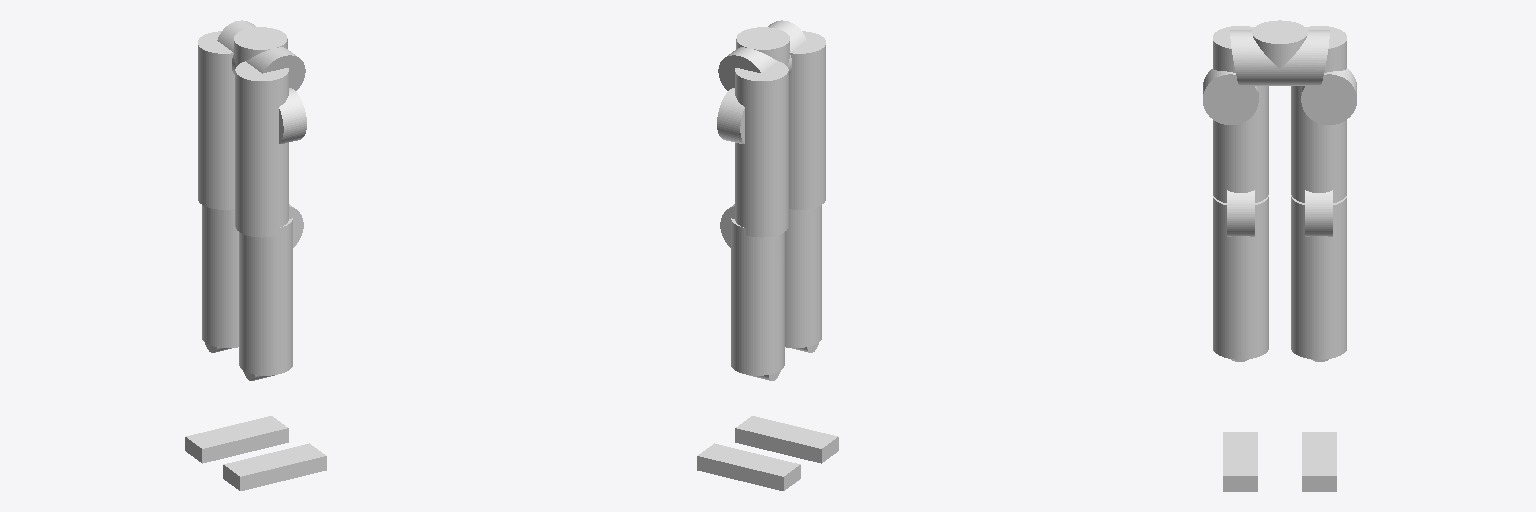
robot.urdf — lite_biped_debug:
<?xml version='1.0' encoding='utf-8'?>
<robot name="lite_biped_debug">
  <!-- GENERATED by robot_assets from Onshape CAD. Do not edit by hand. Regenerate: robot-assets-generate lite_biped_debug -->
  <link name="pelvis">
    <inertial>
      <origin xyz="0.0137049 6.97587e-07 0.0692011" rpy="0 0 0" />
      <mass value="2.1" />
      <inertia ixx="0.00987937" ixy="3.9803e-08" ixz="-0.000115563" iyy="0.00823366" iyz="-5.1965e-08" izz="0.00638151" />
    </inertial>
    <!-- Part pelvis_parts -->
    <visual>
      <origin xyz="0.0137049 6.97587e-07 0.0692011" rpy="0 -0 0" />
      <geometry>
        <mesh filename="../meshes/visual/pelvis_visual.stl" />
      </geometry>
      <material name="pelvis_parts_material">
        <color rgba="0.933333 0.933333 0.933333 1" />
      </material>
    </visual>
  </link>
  <!-- Frame imu (dummy link + fixed joint) -->
  <link name="imu">
    <origin xyz="0 0 0" rpy="0 -0 0" />
    <inertial>
      <origin xyz="0 0 0" rpy="0 0 0" />
      <mass value="1e-9" />
      <inertia ixx="0" ixy="0" ixz="0" iyy="0" iyz="0" izz="0" />
    </inertial>
  </link>
  <joint name="imu_frame" type="fixed">
    <origin xyz="0 0 0.08" rpy="0 -0 0" />
    <parent link="pelvis" />
    <child link="imu" />
    <axis xyz="0 0 0" />
  </joint>
  <!-- Link left_hip_pitch -->
  <link name="left_hip_pitch">
    <inertial>
      <origin xyz="-0.0114774 0.00418673 0.0187959" rpy="0 0 0" />
      <mass value="0.18" />
      <inertia ixx="0.000189549" ixy="1.56103e-05" ixz="-3.45388e-05" iyy="0.000226363" iyz="1.30141e-05" izz="0.000286537" />
    </inertial>
    <!-- Part left_hip_pitch_parts -->
    <visual>
      <origin xyz="-0.0114774 0.00418673 0.0187959" rpy="1.74533 0 -0" />
      <geometry>
        <mesh filename="../meshes/visual/left_hip_pitch_visual.stl" />
      </geometry>
      <material name="left_hip_pitch_parts_material">
        <color rgba="0.933333 0.933333 0.933333 1" />
      </material>
    </visual>
  </link>
  <!-- Link left_hip_roll -->
  <link name="left_hip_roll">
    <inertial>
      <origin xyz="-4.8952e-08 0.0525082 -0.0652484" rpy="0 0 0" />
      <mass value="0.93" />
      <inertia ixx="0.00263146" ixy="-5.134e-09" ixz="3.451e-09" iyy="0.00142387" iyz="-0.000651416" izz="0.00255491" />
    </inertial>
    <!-- Part left_hip_roll_parts -->
    <collision>
      <origin xyz="0 0.181098 -0.0871979" rpy="1.22173 -0 0" />
      <geometry>
        <cylinder length="0.15" radius="0.05" />
      </geometry>
    </collision>
    <visual>
      <origin xyz="-4.8952e-08 0.0525082 -0.0652484" rpy="0 -1.22173 1.5708" />
      <geometry>
        <mesh filename="../meshes/visual/left_hip_roll_visual.stl" />
      </geometry>
      <material name="left_hip_roll_parts_material">
        <color rgba="0.933333 0.933333 0.933333 1" />
      </material>
    </visual>
  </link>
  <!-- Link left_hip_yaw -->
  <link name="left_hip_yaw">
    <inertial>
      <origin xyz="0.00130442 -2.2783e-05 -0.237299" rpy="0 0 0" />
      <mass value="1.54" />
      <inertia ixx="0.00856423" ixy="8.05553e-07" ixz="-0.000337563" iyy="0.00874707" iyz="1.62929e-07" izz="0.00192866" />
    </inertial>
    <!-- Part left_hip_yaw_parts -->
    <visual>
      <origin xyz="0.00130442 -2.2783e-05 -0.237299" rpy="-0 0 -0" />
      <geometry>
        <mesh filename="../meshes/visual/left_hip_yaw_visual.stl" />
      </geometry>
      <material name="left_hip_yaw_parts_material">
        <color rgba="0.933333 0.933333 0.933333 1" />
      </material>
    </visual>
  </link>
  <!-- Link left_knee_pitch -->
  <link name="left_knee_pitch">
    <inertial>
      <origin xyz="-0.00486713 0.0372163 -0.000224083" rpy="0 0 0" />
      <mass value="0.23" />
      <inertia ixx="0.00048246" ixy="3.51526e-05" ixz="-1.20098e-07" iyy="0.000330466" iyz="5.6617e-07" izz="0.00037756" />
    </inertial>
    <!-- Part left_knee_pitch_parts -->
    <collision>
      <origin xyz="-0.015 0.19 0" rpy="1.5708 1.5708 0" />
      <geometry>
        <cylinder length="0.12" radius="0.045" />
      </geometry>
    </collision>
    <visual>
      <origin xyz="-0.00486713 0.0372163 -0.000224083" rpy="1.5708 0 0" />
      <geometry>
        <mesh filename="../meshes/visual/left_knee_pitch_visual.stl" />
      </geometry>
      <material name="left_knee_pitch_parts_material">
        <color rgba="0.933333 0.933333 0.933333 1" />
      </material>
    </visual>
  </link>
  <!-- Link left_ankle_yaw -->
  <link name="left_ankle_yaw">
    <inertial>
      <origin xyz="-0.00304992 0.00150525 -0.18535" rpy="0 0 0" />
      <mass value="1.03" />
      <inertia ixx="0.00548966" ixy="2.18778e-06" ixz="0.000114943" iyy="0.00552969" iyz="-1.87643e-05" izz="0.000829513" />
    </inertial>
    <!-- Part left_ankle_yaw_parts -->
    <visual>
      <origin xyz="-0.00304992 0.00150525 -0.18535" rpy="-0 0 -0" />
      <geometry>
        <mesh filename="../meshes/visual/left_ankle_yaw_visual.stl" />
      </geometry>
      <material name="left_ankle_yaw_parts_material">
        <color rgba="0.933333 0.933333 0.933333 1" />
      </material>
    </visual>
  </link>
  <!-- Link left_ankle_pitch -->
  <link name="left_ankle_pitch">
    <inertial>
      <origin xyz="-0.00384209 0.0297371 3.1356e-08" rpy="0 0 0" />
      <mass value="0.34" />
      <inertia ixx="0.000180143" ixy="-3.10163e-05" ixz="-7.8e-11" iyy="0.00014325" iyz="2.66e-10" izz="0.000245142" />
    </inertial>
    <!-- Part left_ankle_pitch_parts -->
    <visual>
      <origin xyz="-0.00384209 0.0297371 3.1356e-08" rpy="1.5708 -0 -0" />
      <geometry>
        <mesh filename="../meshes/visual/left_ankle_pitch_visual.stl" />
      </geometry>
      <material name="left_ankle_pitch_parts_material">
        <color rgba="0.933333 0.933333 0.933333 1" />
      </material>
    </visual>
  </link>
  <!-- Link left_foot -->
  <link name="left_foot">
    <inertial>
      <origin xyz="-0.000591034 0.0225869 0.01872" rpy="0 0 0" />
      <mass value="0.326223" />
      <inertia ixx="0.000536048" ixy="-3.34731e-06" ixz="5.216e-06" iyy="0.000602621" iyz="1.20169e-05" izz="0.000181126" />
    </inertial>
    <!-- Part left_foot_parts -->
    <collision>
      <origin xyz="-0 0.03 0.015" rpy="1.5708 0 0" />
      <geometry>
        <box size="0.07 0.13 0.02" />
      </geometry>
    </collision>
    <visual>
      <origin xyz="-0.000591034 0.0225869 0.01872" rpy="1.5708 -1.5708 0" />
      <geometry>
        <mesh filename="../meshes/visual/left_foot_visual.stl" />
      </geometry>
      <material name="left_foot_parts_material">
        <color rgba="0.933333 0.933333 0.933333 1" />
      </material>
    </visual>
  </link>
  <!-- Joint from left_ankle_pitch to left_foot -->
  <joint name="left_ankle_roll" type="revolute">
    <origin xyz="0 0.04 -0" rpy="0 1.5708 0" />
    <parent link="left_ankle_pitch" />
    <child link="left_foot" />
    <axis xyz="0 0 1" />
    <limit effort="5.5" velocity="100" lower="-0.349066" upper="0.349066" />
    <joint_properties friction="0.1" />
  </joint>
  <!-- Joint from left_ankle_yaw to left_ankle_pitch -->
  <joint name="left_ankle_pitch" type="revolute">
    <origin xyz="0.01 -0 -0.34" rpy="-1.5708 0 -0" />
    <parent link="left_ankle_yaw" />
    <child link="left_ankle_pitch" />
    <axis xyz="0 0 1" />
    <limit effort="14.0" velocity="100" lower="-0.523599" upper="0.872665" />
    <joint_properties friction="0.1" />
  </joint>
  <!-- Joint from left_knee_pitch to left_ankle_yaw -->
  <joint name="left_ankle_yaw" type="revolute">
    <origin xyz="-0.015 0 0" rpy="1.5708 0 -0" />
    <parent link="left_knee_pitch" />
    <child link="left_ankle_yaw" />
    <axis xyz="0 0 1" />
    <limit effort="14.0" velocity="100" lower="-1.5708" upper="1.5708" />
    <joint_properties friction="0.1" />
  </joint>
  <!-- Joint from left_hip_yaw to left_knee_pitch -->
  <joint name="left_knee_pitch" type="revolute">
    <origin xyz="-0.01 0 -0.33" rpy="-1.5708 0 0" />
    <parent link="left_hip_yaw" />
    <child link="left_knee_pitch" />
    <axis xyz="0 0 1" />
    <limit effort="36.0" velocity="100" lower="0" upper="2.35619" />
    <joint_properties friction="0.1" />
  </joint>
  <!-- Joint from left_hip_roll to left_hip_yaw -->
  <joint name="left_hip_yaw" type="revolute">
    <origin xyz="0 -0.0068404 -0.0187939" rpy="0 -1.22173 1.5708" />
    <parent link="left_hip_roll" />
    <child link="left_hip_yaw" />
    <axis xyz="0 0 1" />
    <limit effort="17.0" velocity="100" lower="-1.5708" upper="1.5708" />
    <joint_properties friction="0.1" />
  </joint>
  <!-- Joint from left_hip_pitch to left_hip_roll -->
  <joint name="left_hip_roll" type="revolute">
    <origin xyz="-0 0 -0" rpy="1.91986 1.39626 1.5708" />
    <parent link="left_hip_pitch" />
    <child link="left_hip_roll" />
    <axis xyz="0 0 1" />
    <limit effort="36.0" velocity="100" lower="-0.349066" upper="1.5708" />
    <joint_properties friction="0.1" />
  </joint>
  <!-- Joint from pelvis to left_hip_pitch -->
  <joint name="left_hip_pitch" type="revolute">
    <origin xyz="0.02 0.07 0" rpy="-1.74533 0 0" />
    <parent link="pelvis" />
    <child link="left_hip_pitch" />
    <axis xyz="0 0 1" />
    <limit effort="36.0" velocity="100" lower="-2.35619" upper="0.785398" />
    <joint_properties friction="0.1" />
  </joint>
  <!-- Link right_hip_pitch -->
  <link name="right_hip_pitch">
    <inertial>
      <origin xyz="-0.0114771 0.00418737 -0.0187964" rpy="0 0 0" />
      <mass value="0.18" />
      <inertia ixx="0.000189546" ixy="1.56176e-05" ixz="3.45408e-05" iyy="0.00022637" iyz="-1.30122e-05" izz="0.000286535" />
    </inertial>
    <!-- Part right_hip_pitch_parts -->
    <visual>
      <origin xyz="-0.0114771 0.00418737 -0.0187964" rpy="1.39626 0 -0" />
      <geometry>
        <mesh filename="../meshes/visual/right_hip_pitch_visual.stl" />
      </geometry>
      <material name="right_hip_pitch_parts_material">
        <color rgba="0.933333 0.933333 0.933333 1" />
      </material>
    </visual>
  </link>
  <!-- Link right_hip_roll -->
  <link name="right_hip_roll">
    <inertial>
      <origin xyz="2.6715e-08 0.0525085 -0.0652483" rpy="0 0 0" />
      <mass value="0.93" />
      <inertia ixx="0.00263147" ixy="2.71e-10" ixz="6.079e-09" iyy="0.00142387" iyz="-0.000651423" izz="0.00255493" />
    </inertial>
    <!-- Part right_hip_roll_parts -->
    <collision>
      <origin xyz="1.40064e-07 0.181098 -0.0871974" rpy="1.22173 0 -0" />
      <geometry>
        <cylinder length="0.15" radius="0.05" />
      </geometry>
    </collision>
    <visual>
      <origin xyz="2.6715e-08 0.0525085 -0.0652483" rpy="0 -1.22173 1.5708" />
      <geometry>
        <mesh filename="../meshes/visual/right_hip_roll_visual.stl" />
      </geometry>
      <material name="right_hip_roll_parts_material">
        <color rgba="0.933333 0.933333 0.933333 1" />
      </material>
    </visual>
  </link>
  <!-- Link right_hip_yaw -->
  <link name="right_hip_yaw">
    <inertial>
      <origin xyz="0.00130421 2.35733e-05 -0.237299" rpy="0 0 0" />
      <mass value="1.54" />
      <inertia ixx="0.00856421" ixy="-7.98006e-07" ixz="-0.000337552" iyy="0.00874705" iyz="-2.23692e-07" izz="0.00192867" />
    </inertial>
    <!-- Part right_hip_yaw_parts -->
    <visual>
      <origin xyz="0.00130421 2.35733e-05 -0.237299" rpy="0 0 -0" />
      <geometry>
        <mesh filename="../meshes/visual/right_hip_yaw_visual.stl" />
      </geometry>
      <material name="right_hip_yaw_parts_material">
        <color rgba="0.933333 0.933333 0.933333 1" />
      </material>
    </visual>
  </link>
  <!-- Link right_knee_pitch -->
  <link name="right_knee_pitch">
    <inertial>
      <origin xyz="-0.0048642 0.0372186 0.000224747" rpy="0 0 0" />
      <mass value="0.23" />
      <inertia ixx="0.000482479" ixy="3.5171e-05" ixz="1.13103e-07" iyy="0.000330463" iyz="-5.54061e-07" izz="0.000377561" />
    </inertial>
    <!-- Part right_knee_pitch_parts -->
    <collision>
      <origin xyz="-0.015 0.19 0" rpy="1.5708 1.5708 0" />
      <geometry>
        <cylinder length="0.12" radius="0.045" />
      </geometry>
    </collision>
    <visual>
      <origin xyz="-0.0048642 0.0372186 0.000224747" rpy="1.5708 0 0" />
      <geometry>
        <mesh filename="../meshes/visual/right_knee_pitch_visual.stl" />
      </geometry>
      <material name="right_knee_pitch_parts_material">
        <color rgba="0.933333 0.933333 0.933333 1" />
      </material>
    </visual>
  </link>
  <!-- Link right_ankle_yaw -->
  <link name="right_ankle_yaw">
    <inertial>
      <origin xyz="-0.00304908 -0.0015054 -0.185348" rpy="0 0 0" />
      <mass value="1.03" />
      <inertia ixx="0.00548969" ixy="-2.19478e-06" ixz="0.000114953" iyy="0.00552968" iyz="1.87697e-05" izz="0.00082951" />
    </inertial>
    <!-- Part right_ankle_yaw_parts -->
    <visual>
      <origin xyz="-0.00304908 -0.0015054 -0.185348" rpy="0 0 -0" />
      <geometry>
        <mesh filename="../meshes/visual/right_ankle_yaw_visual.stl" />
      </geometry>
      <material name="right_ankle_yaw_parts_material">
        <color rgba="0.933333 0.933333 0.933333 1" />
      </material>
    </visual>
  </link>
  <!-- Link right_ankle_pitch -->
  <link name="right_ankle_pitch">
    <inertial>
      <origin xyz="-0.00384209 0.0297371 3.1396e-08" rpy="0 0 0" />
      <mass value="0.34" />
      <inertia ixx="0.000180143" ixy="-3.10163e-05" ixz="-7.8e-11" iyy="0.00014325" iyz="2.66e-10" izz="0.000245142" />
    </inertial>
    <!-- Part right_ankle_pitch_parts -->
    <visual>
      <origin xyz="-0.00384209 0.0297371 3.1396e-08" rpy="1.5708 0 0" />
      <geometry>
        <mesh filename="../meshes/visual/right_ankle_pitch_visual.stl" />
      </geometry>
      <material name="right_ankle_pitch_parts_material">
        <color rgba="0.933333 0.933333 0.933333 1" />
      </material>
    </visual>
  </link>
  <!-- Link right_foot -->
  <link name="right_foot">
    <inertial>
      <origin xyz="0.000591036 0.0225869 0.01872" rpy="0 0 0" />
      <mass value="0.326223" />
      <inertia ixx="0.000536048" ixy="3.34731e-06" ixz="-5.21602e-06" iyy="0.000602621" iyz="1.20169e-05" izz="0.000181126" />
    </inertial>
    <!-- Part right_foot_parts -->
    <collision>
      <origin xyz="0 0.03 0.015" rpy="1.5708 0 -0" />
      <geometry>
        <box size="0.07 0.13 0.02" />
      </geometry>
    </collision>
    <visual>
      <origin xyz="0.000591036 0.0225869 0.01872" rpy="1.5708 -1.5708 0" />
      <geometry>
        <mesh filename="../meshes/visual/right_foot_visual.stl" />
      </geometry>
      <material name="right_foot_parts_material">
        <color rgba="0.933333 0.933333 0.933333 1" />
      </material>
    </visual>
  </link>
  <!-- Joint from right_ankle_pitch to right_foot -->
  <joint name="right_ankle_roll" type="revolute">
    <origin xyz="0 0.04 0" rpy="0 1.5708 0" />
    <parent link="right_ankle_pitch" />
    <child link="right_foot" />
    <axis xyz="0 0 1" />
    <limit effort="5.5" velocity="100" lower="-0.349066" upper="0.349066" />
    <joint_properties friction="0.1" />
  </joint>
  <!-- Joint from right_ankle_yaw to right_ankle_pitch -->
  <joint name="right_ankle_pitch" type="revolute">
    <origin xyz="0.01 0 -0.34" rpy="-1.5708 -0 -0" />
    <parent link="right_ankle_yaw" />
    <child link="right_ankle_pitch" />
    <axis xyz="0 0 1" />
    <limit effort="14.0" velocity="100" lower="-0.523599" upper="0.872665" />
    <joint_properties friction="0.1" />
  </joint>
  <!-- Joint from right_knee_pitch to right_ankle_yaw -->
  <joint name="right_ankle_yaw" type="revolute">
    <origin xyz="-0.015 0 0" rpy="1.5708 -0 -0" />
    <parent link="right_knee_pitch" />
    <child link="right_ankle_yaw" />
    <axis xyz="0 0 1" />
    <limit effort="14.0" velocity="100" lower="-1.5708" upper="1.5708" />
    <joint_properties friction="0.1" />
  </joint>
  <!-- Joint from right_hip_yaw to right_knee_pitch -->
  <joint name="right_knee_pitch" type="revolute">
    <origin xyz="-0.01 -0 -0.33" rpy="-1.5708 0 0" />
    <parent link="right_hip_yaw" />
    <child link="right_knee_pitch" />
    <axis xyz="0 0 1" />
    <limit effort="36.0" velocity="100" lower="0" upper="2.35619" />
    <joint_properties friction="0.1" />
  </joint>
  <!-- Joint from right_hip_roll to right_hip_yaw -->
  <joint name="right_hip_yaw" type="revolute">
    <origin xyz="-0 -0.0068404 -0.0187939" rpy="-0 -1.22173 1.5708" />
    <parent link="right_hip_roll" />
    <child link="right_hip_yaw" />
    <axis xyz="0 0 1" />
    <limit effort="17.0" velocity="100" lower="-1.5708" upper="1.5708" />
    <joint_properties friction="0.1" />
  </joint>
  <!-- Joint from right_hip_pitch to right_hip_roll -->
  <joint name="right_hip_roll" type="revolute">
    <origin xyz="0 -0 -0" rpy="-1.22173 1.39626 -1.5708" />
    <parent link="right_hip_pitch" />
    <child link="right_hip_roll" />
    <axis xyz="0 0 1" />
    <limit effort="36.0" velocity="100" lower="-1.5708" upper="0.349066" />
    <joint_properties friction="0.1" />
  </joint>
  <!-- Joint from pelvis to right_hip_pitch -->
  <joint name="right_hip_pitch" type="revolute">
    <origin xyz="0.02 -0.07 -0" rpy="-1.39626 -0 0" />
    <parent link="pelvis" />
    <child link="right_hip_pitch" />
    <axis xyz="0 0 1" />
    <limit effort="36.0" velocity="100" lower="-2.35619" upper="0.785398" />
    <joint_properties friction="0.1" />
  </joint>
</robot>

--- Render facts (derived) ---
3 views of the same robot in one strip: view 1: azimuth 30°, elevation 25°; view 2: azimuth 150°, elevation 25°; view 3: azimuth 270°, elevation 25° (orthographic).
Model lite_biped_debug with 16 links and 15 joints (14 revolute, 1 fixed), rooted at pelvis, posed every joint at zero.
Visible links, largest first — view 1: right_hip_roll, right_knee_pitch, left_hip_roll, left_knee_pitch, pelvis, right_foot, left_foot, right_hip_pitch; view 2: left_hip_roll, left_knee_pitch, right_hip_roll, right_knee_pitch, pelvis, left_foot, right_foot, left_hip_pitch; view 3: right_knee_pitch, left_knee_pitch, pelvis, left_hip_roll, right_hip_roll, left_hip_pitch, right_hip_pitch, left_foot, right_foot, left_hip_yaw, right_hip_yaw.
Link boxes in pixels (x1,y1,x2,y2): right_hip_roll: [235, 61, 288, 237]; right_knee_pitch: [239, 218, 292, 375]; left_hip_roll: [198, 31, 234, 209]; left_knee_pitch: [202, 205, 238, 347]; pelvis: [217, 20, 305, 90]; right_foot: [223, 443, 326, 490]; left_foot: [185, 416, 288, 463]; right_hip_pitch: [279, 88, 306, 143]; left_hip_roll: [735, 61, 788, 237]; left_knee_pitch: [731, 218, 784, 375]; right_hip_roll: [789, 31, 825, 209]; right_knee_pitch: [785, 205, 821, 347]; pelvis: [718, 20, 806, 90]; left_foot: [697, 443, 800, 490]; right_foot: [735, 416, 838, 463]; left_hip_pitch: [717, 88, 744, 143]; right_knee_pitch: [1213, 195, 1268, 359]; left_knee_pitch: [1291, 195, 1346, 359]; pelvis: [1230, 20, 1329, 85]; left_hip_roll: [1291, 26, 1346, 202]; right_hip_roll: [1213, 26, 1268, 202]; left_hip_pitch: [1301, 69, 1356, 124]; right_hip_pitch: [1203, 69, 1258, 124]; left_foot: [1302, 432, 1336, 491]; right_foot: [1223, 432, 1257, 491]; left_hip_yaw: [1305, 190, 1332, 236]; right_hip_yaw: [1227, 190, 1254, 236].
Bounding box of the posed robot: 0.185 × 0.2756 × 0.8636 m (x, y, z).
13 mesh visuals loaded from 15 distinct referenced files (13 binary STL); not drawn: 2 (reference not matched to a file when rendering).
